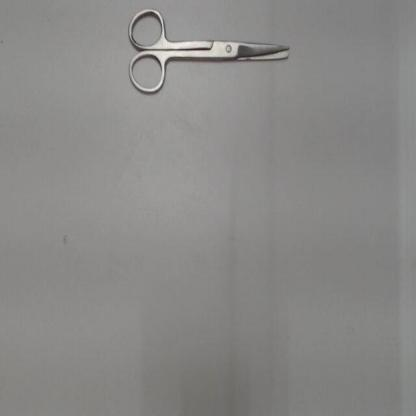Dressing Scissors: (119, 4, 298, 104)
